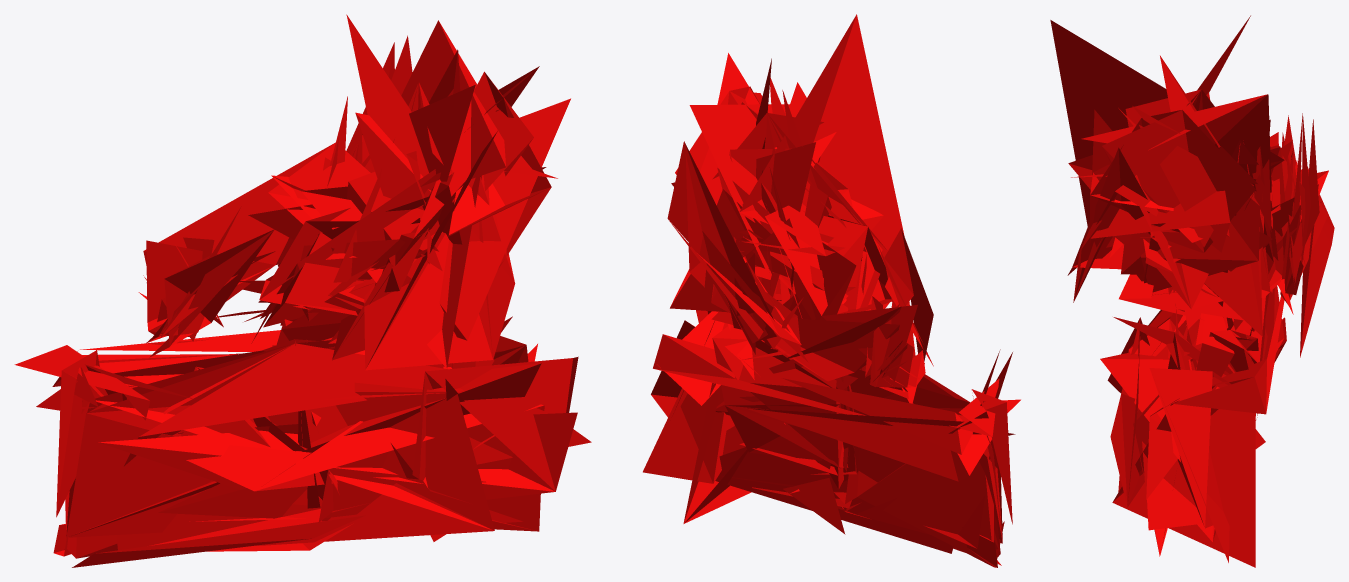
3 views of the same model, side by side, from view 1: azimuth 30°, elevation 25°; view 2: azimuth 150°, elevation 25°; view 3: azimuth 270°, elevation 25° (orthographic). The views are drawn at different scales.
Visible parts, largest first — view 1: Renderer Node; view 2: Renderer Node; view 3: Renderer Node.
Part boxes in pixels (<box>): Renderer Node: <box>14,14,591,567</box>; Renderer Node: <box>643,14,1020,567</box>; Renderer Node: <box>1050,15,1334,567</box>.
Size of the model in its own units: 0.6683 by 0.6942 by 0.3537.
1 material, 1 textured.
